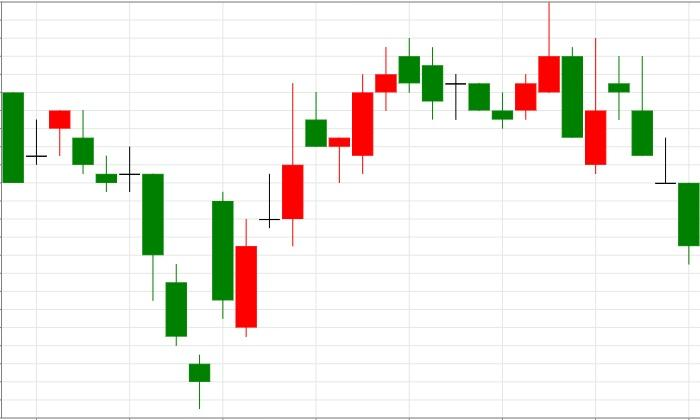morning_star_rise: (399, 38, 536, 128)
